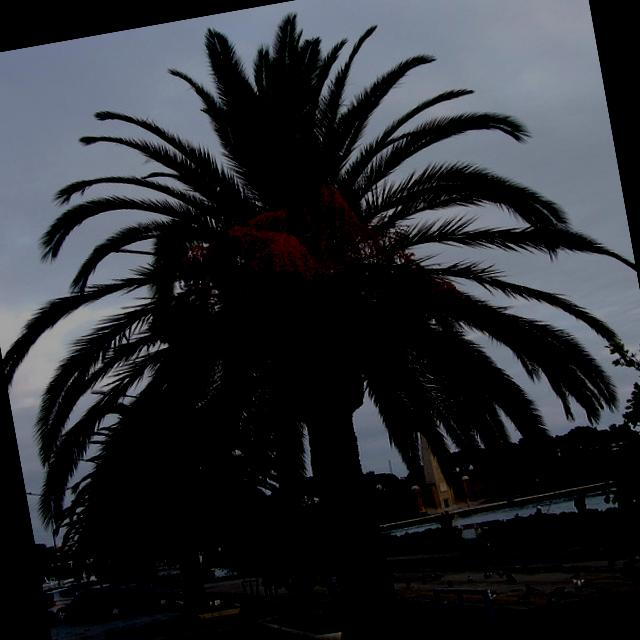Vehicle: (73, 572, 180, 626), (42, 580, 95, 625)
